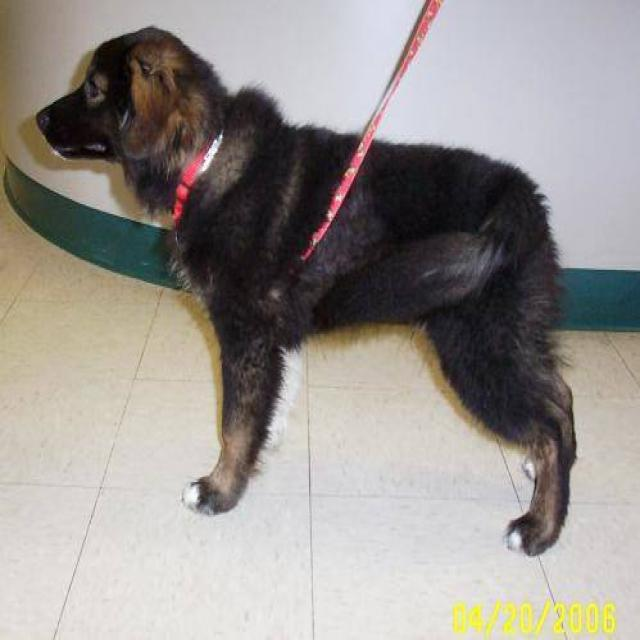dog: (10, 0, 590, 601)
